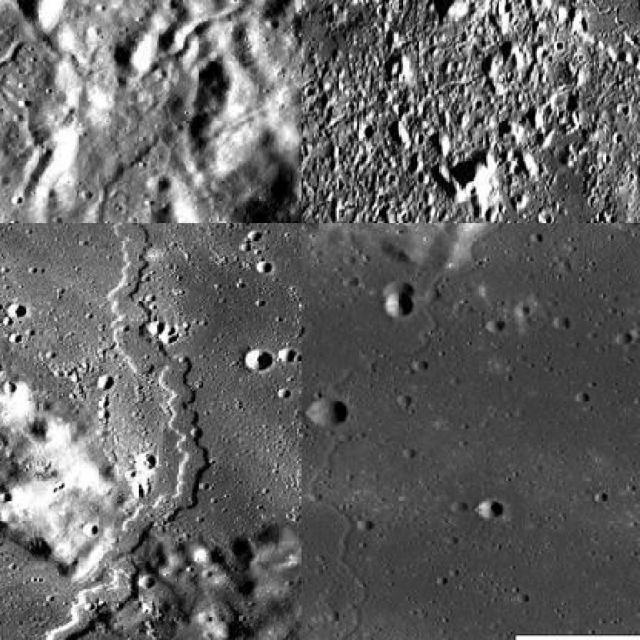crater: (42, 223, 210, 639), (306, 0, 640, 200), (326, 223, 563, 395), (2, 0, 253, 103), (306, 436, 371, 638), (1, 35, 57, 203), (86, 128, 166, 222)
